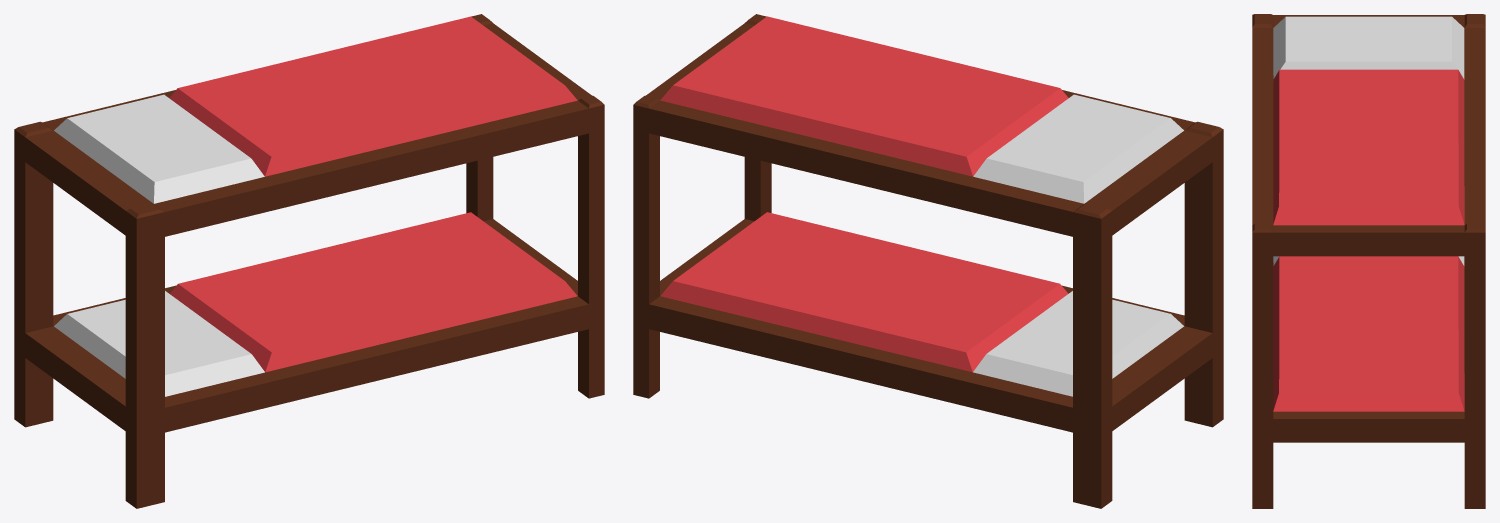
Rendered from kreveti 1.fbx.
3 renders of one model, left to right at view 1: azimuth 30°, elevation 25°; view 2: azimuth 150°, elevation 25°; view 3: azimuth 270°, elevation 25°, orthographic. The views are drawn at different scales.
Visible parts, largest first — view 1: Cube.002; view 2: Cube.002; view 3: Cube.002.
Part boxes in pixels (x1=…): Cube.002: x1=14, y1=14, x2=604, y2=508; Cube.002: x1=633, y1=14, x2=1223, y2=508; Cube.002: x1=1252, y1=14, x2=1485, y2=508.
Bounding box in the file's own units: 503 × 314 × 228.
